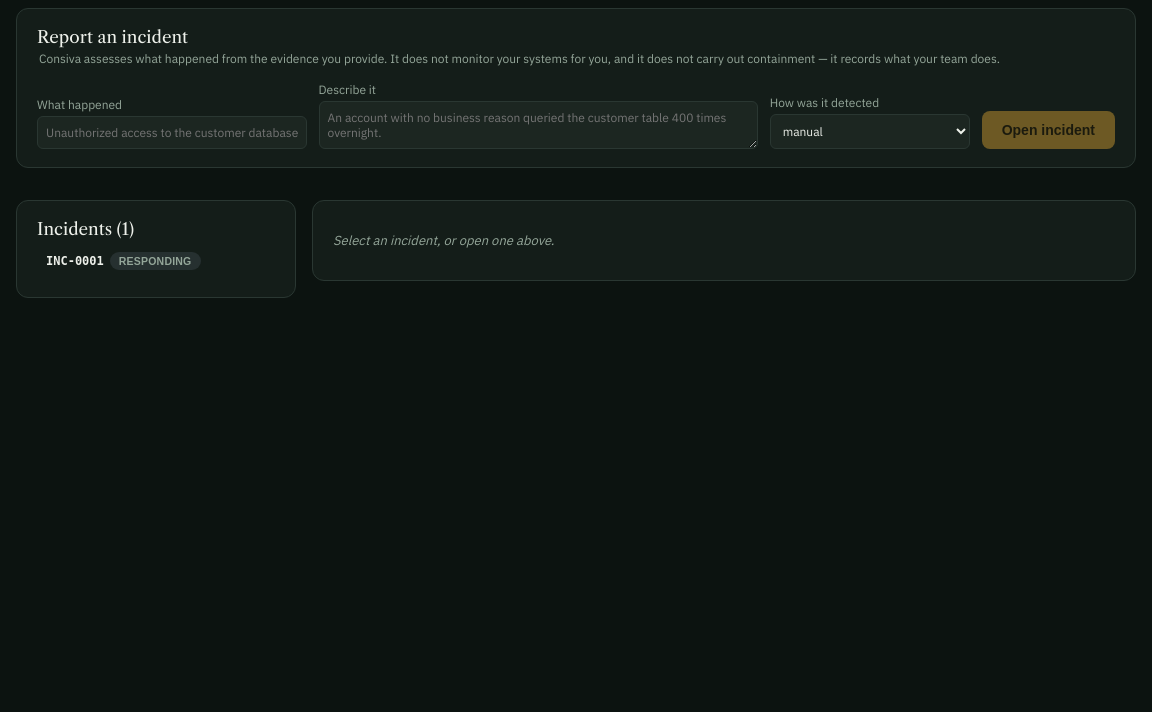
BreachConsole: recording a containment action as failed › the submit button stays disabled (required reason) until something is typed
Step 1. Click the button "INC-0001 responding" → (156, 261), box top-left (37, 243), bottom-right (275, 279)
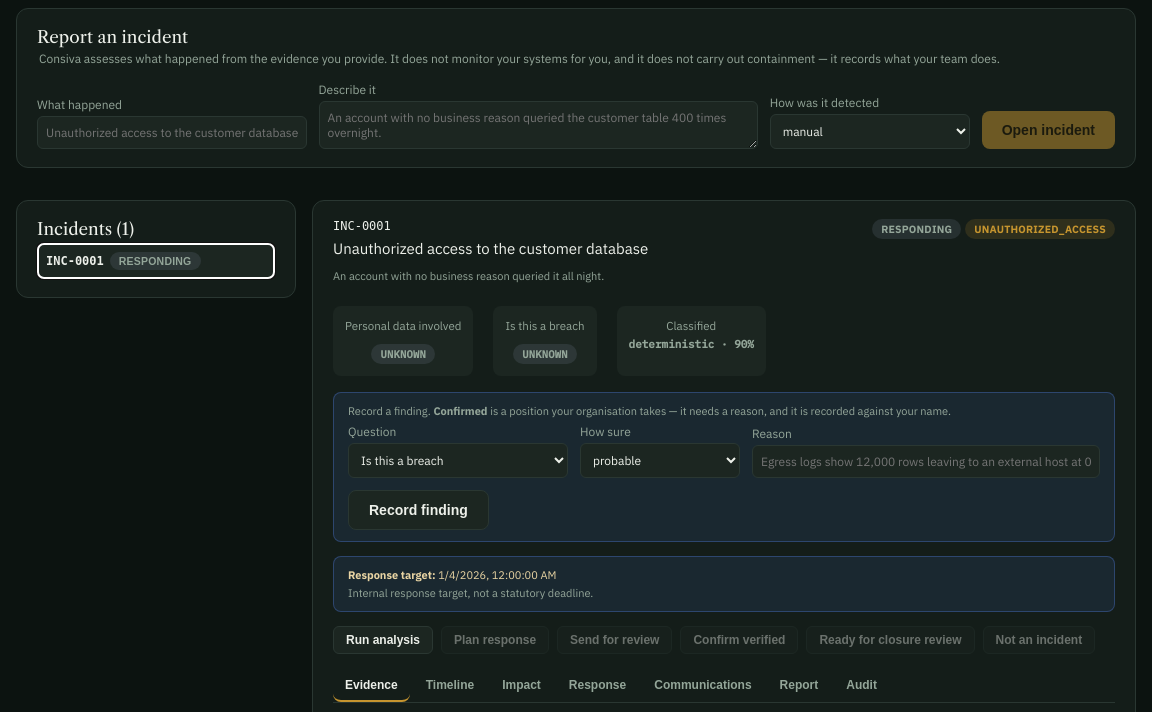
Step 2. Click the button "response" → (598, 686), box top-left (557, 670), bottom-right (638, 702)
(page scrolled)
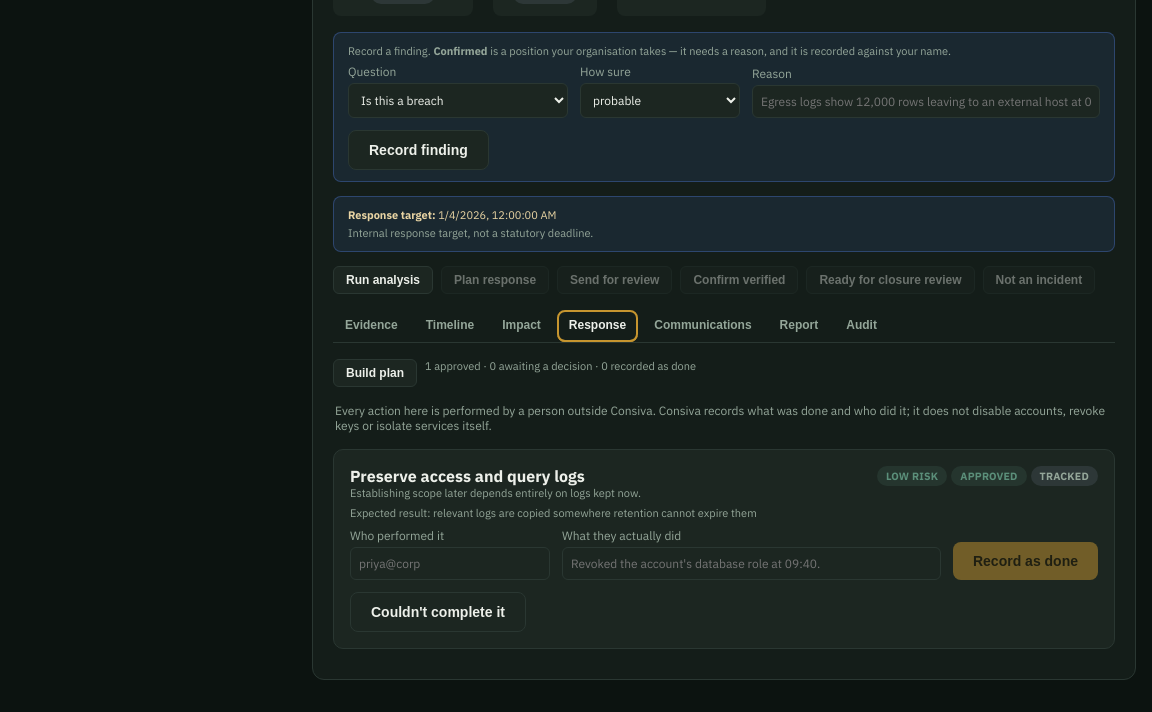
Now the text "Preserve access and query logs" is shown, box top-left (350, 466), bottom-right (585, 486)
Step 3. Click the button "Couldn't complete it" → (438, 612), box top-left (350, 592), bottom-right (526, 632)
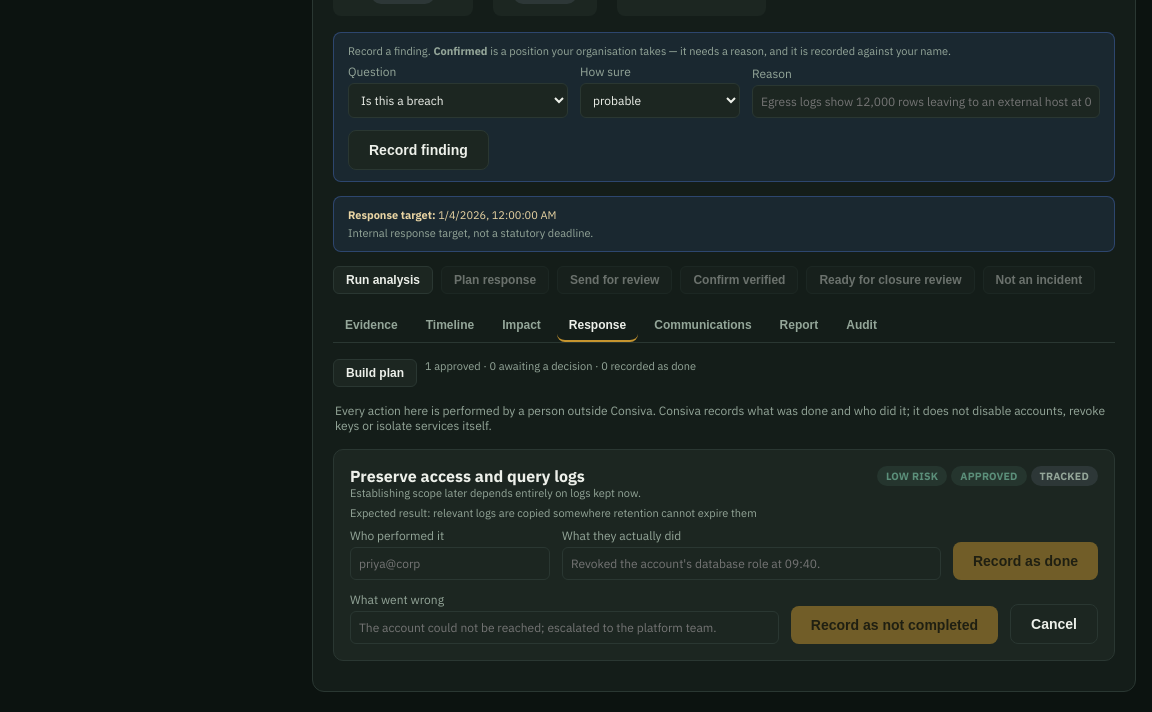
Now the button "Record as not completed" is disabled, box top-left (791, 606), bottom-right (998, 644)
Step 4. Type "x" into the field labelled "What went wrong" → (564, 628), box top-left (350, 611), bottom-right (779, 644)
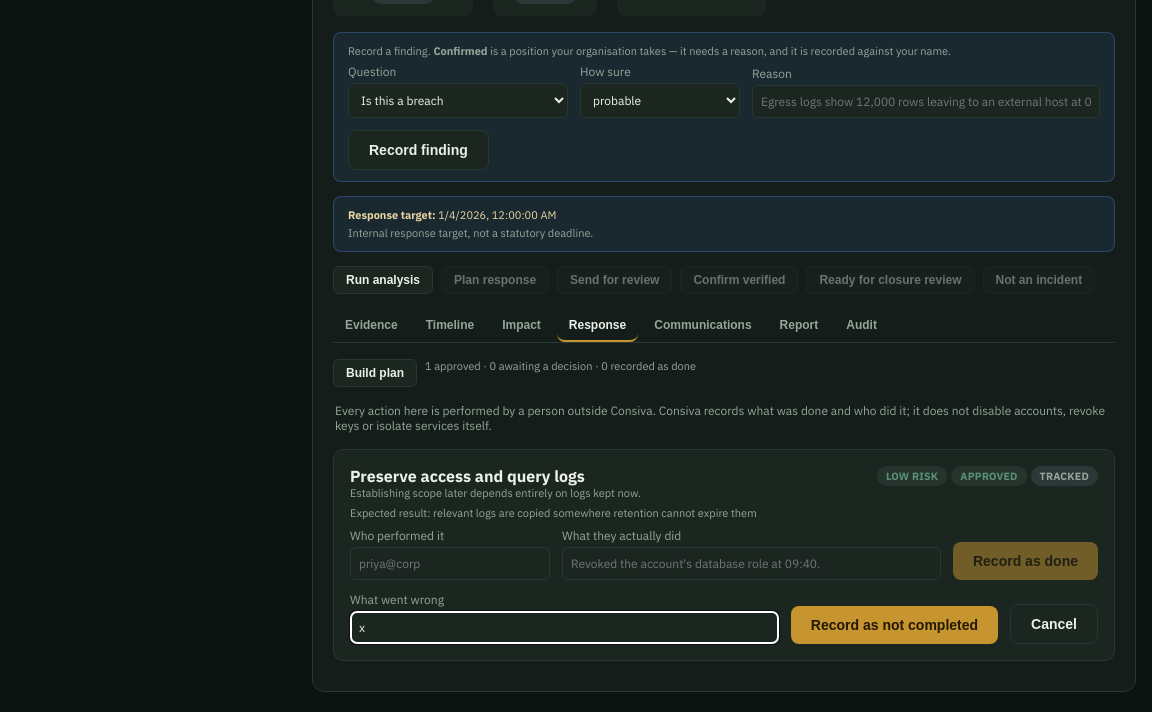
Now the button "Record as not completed" is enabled, box top-left (791, 606), bottom-right (998, 644)
